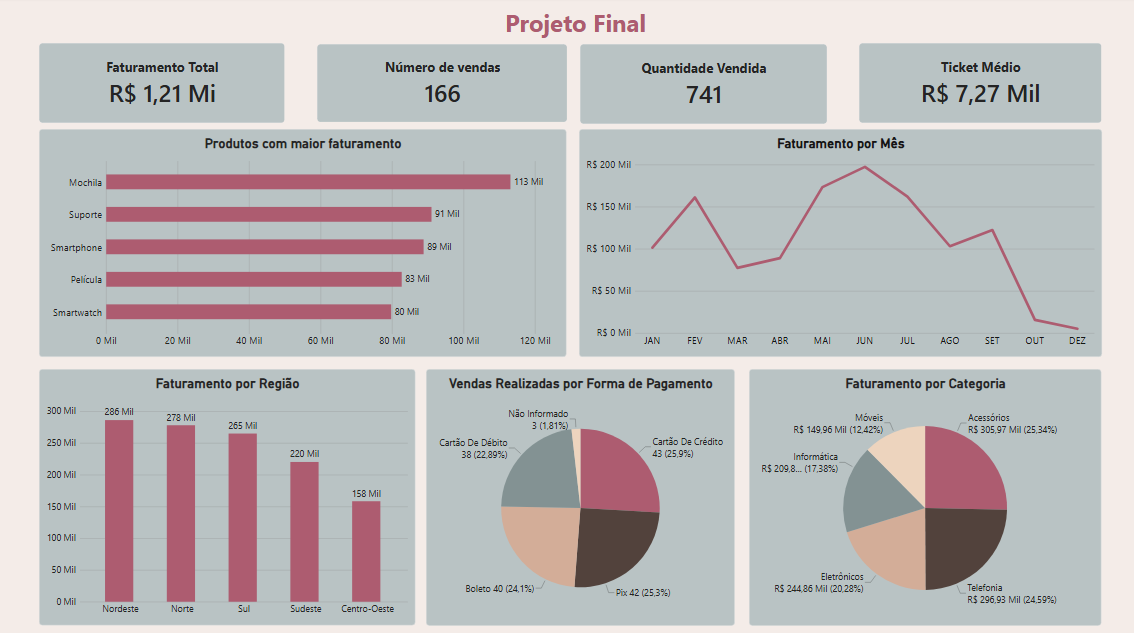

What the dashboard file says about the page in this screenshot:
{"tool":"powerbi","page":{"name":"HOME","canvas":[2560,1440],"ordinal":0},"visuals":[{"type":"textbox","box":[1139.8,20.4,336.6,84.1],"z":0},{"type":"cardVisual","fields":{"Data":["Medidas.Faturamento Total"]},"box":[93.3,103.3,553.3,180],"z":1000},{"type":"cardVisual","fields":{"Data":["Medidas.Número de vendas"]},"box":[716.7,106.7,563.3,176.7],"z":2000},{"type":"cardVisual","fields":{"Data":["Medidas.Quantidade Vendida"]},"box":[1310,106.7,556.7,180],"z":3000},{"type":"cardVisual","fields":{"Data":["Medidas.Ticket Médio"]},"box":[1936.7,103.3,546.7,180],"z":4000},{"type":"columnChart","title":"Faturamento por Região","fields":{"Category":["Vendas.Região"],"Y":["Sum(Vendas.Valor Total da Venda)"]},"box":[93.3,836.7,846.7,576.7],"z":5000},{"type":"pieChart","fields":{"Category":["Vendas.Categoria"],"Y":["Sum(Vendas.Valor Total da Venda)"]},"box":[1690,836.7,792.5,577.5],"z":6000},{"type":"lineChart","title":"Faturamento por Mês","fields":{"Category":["Calendario.Mes_Abr"],"Y":["Sum(Vendas.Valor Total da Venda)"]},"box":[1306.7,296.7,1176.7,513.3],"z":7000},{"type":"pieChart","title":"Vendas Realizadas por Forma de Pagamento","fields":{"Category":["Vendas.Forma de Pagamento"],"Y":["Medidas.Número de vendas"]},"box":[963.3,836.7,695,577.5],"z":8000},{"type":"barChart","title":"Produtos com maior faturamento","fields":{"Category":["Vendas.Produto"],"Y":["Sum(Vendas.Valor Total da Venda)"]},"box":[93.3,296.7,1186.7,513.3],"z":9000}]}

Visuals, with their boxes in screenshot pixels (x1, y1, x2, y2), scaled from the page's 2560x1440 canvas onto the 1134x633 screenshot:
textbox: region(505, 9, 654, 46)
cardVisual - Medidas.Faturamento Total: region(41, 45, 286, 125)
cardVisual - Medidas.Número de vendas: region(317, 47, 567, 125)
cardVisual - Medidas.Quantidade Vendida: region(580, 47, 827, 126)
cardVisual - Medidas.Ticket Médio: region(858, 45, 1100, 125)
"Faturamento por Região" columnChart: region(41, 368, 416, 621)
pieChart - Vendas.Categoria x Sum(Vendas.Valor Total da Venda): region(749, 368, 1100, 622)
"Faturamento por Mês" lineChart: region(579, 130, 1100, 356)
"Vendas Realizadas por Forma de Pagamento" pieChart: region(427, 368, 735, 622)
"Produtos com maior faturamento" barChart: region(41, 130, 567, 356)
